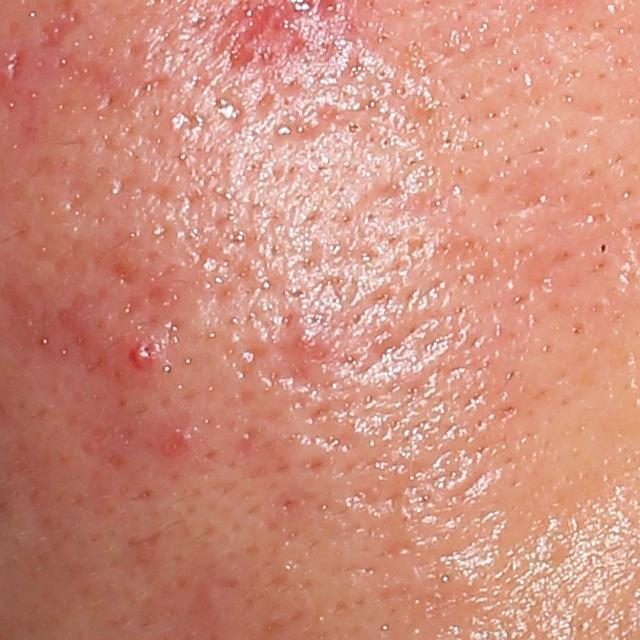atrophic_scar: (267, 97, 359, 149), (109, 259, 136, 293), (8, 46, 23, 79)
papule: (129, 330, 167, 374)
